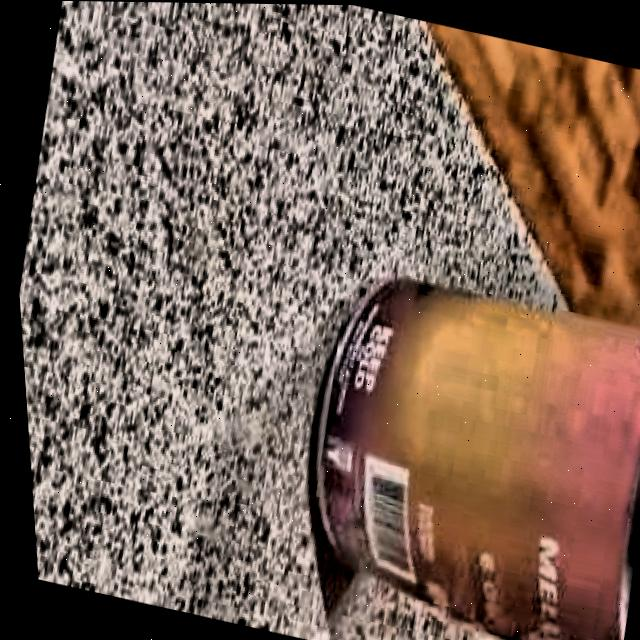metal: (220, 234, 640, 640)
